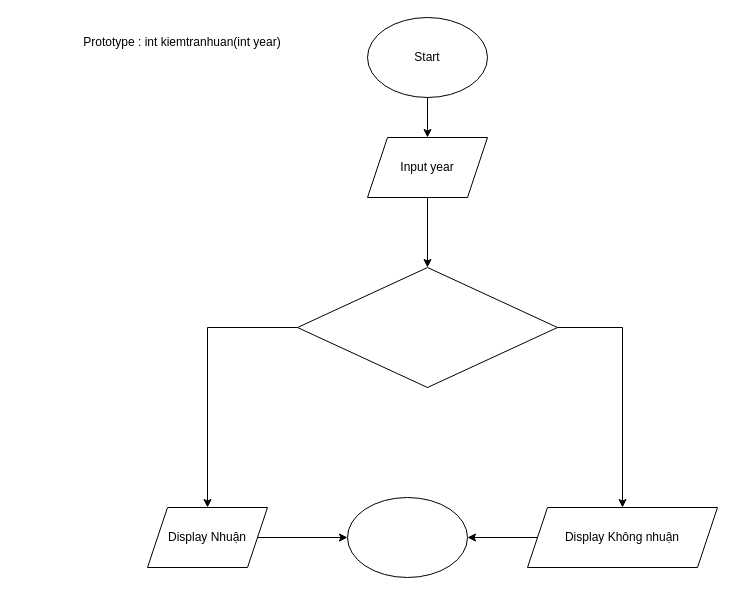
Image size: 735x595. Some labels were removed from this diagram. The centre of each missing label's shape, as x and y in pixels:
"(year % 4 == 0 && year % 100 != 0) || year % 400 == 0" goes at pixel 427 327.
"End" goes at pixel 407 537.
